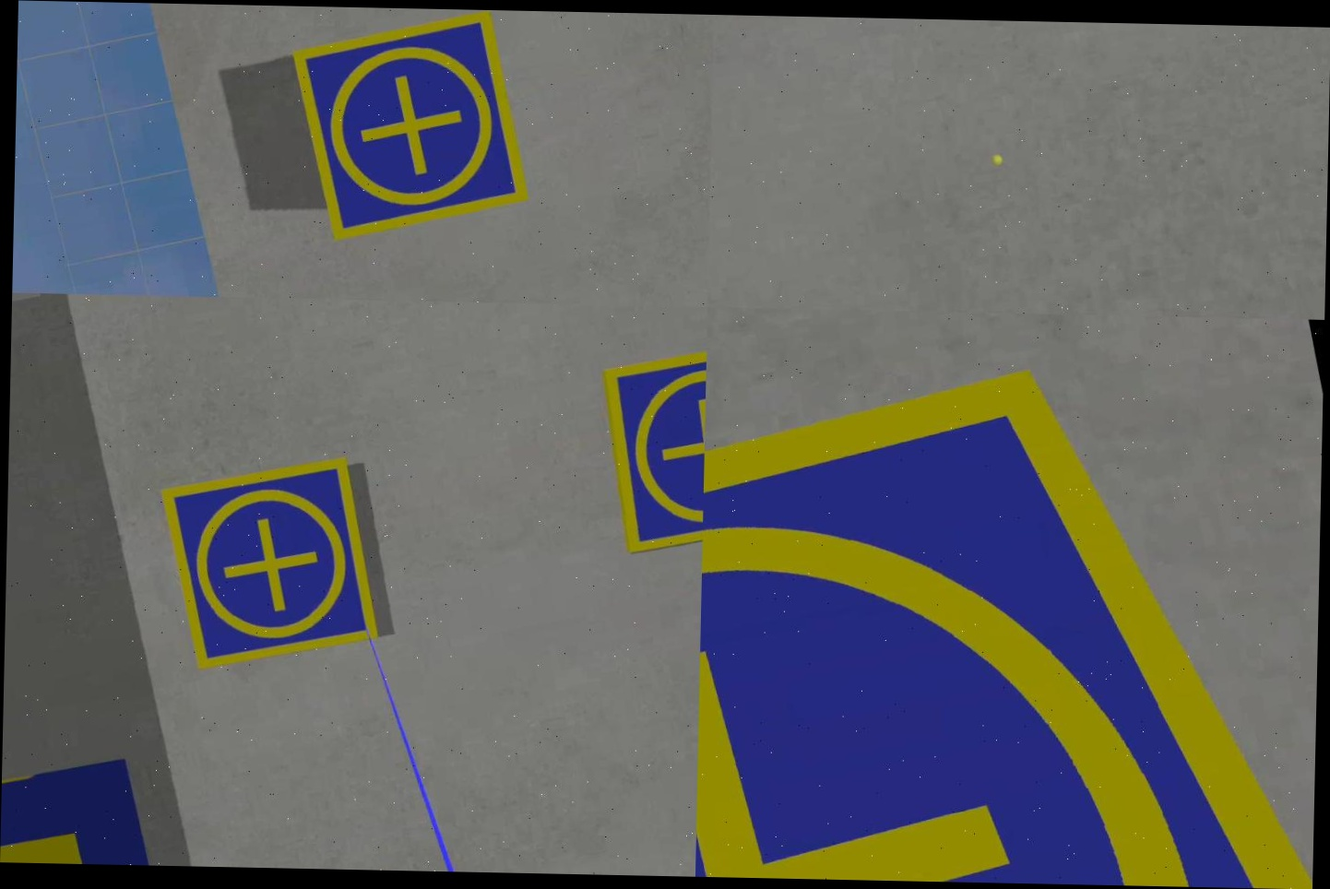small_base: (695, 319, 1324, 889), (282, 6, 537, 246), (155, 450, 388, 681), (591, 332, 707, 561)
